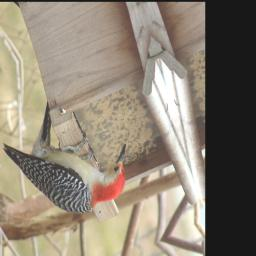Woodpecker: (2, 80, 141, 244)
